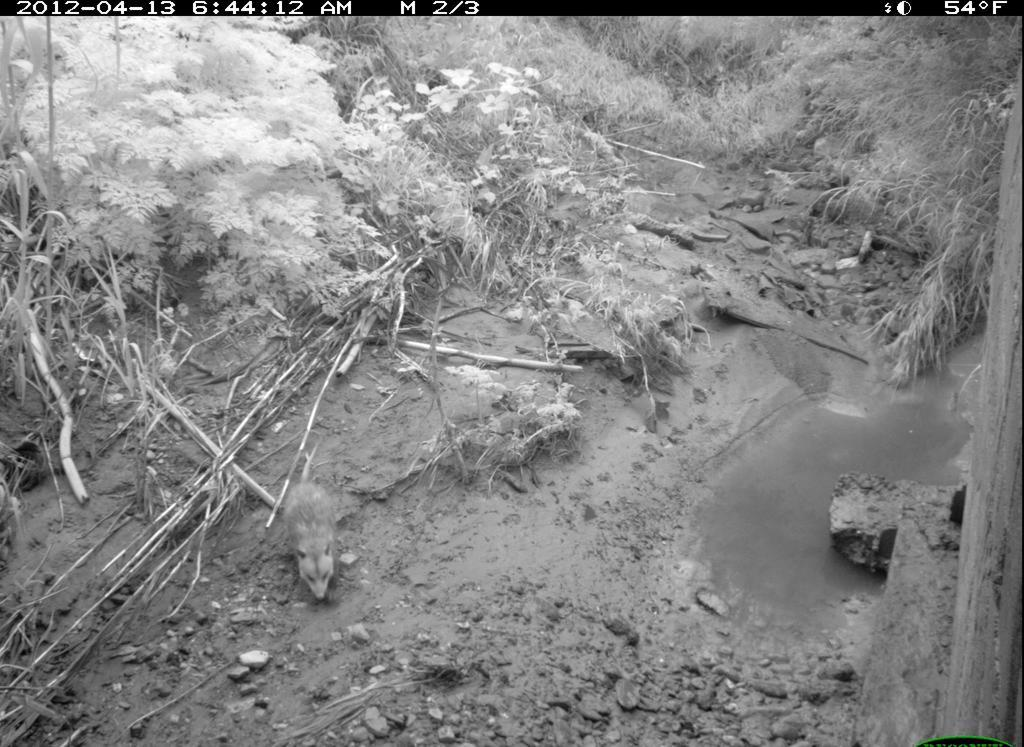opossum: (269, 461, 361, 629)
